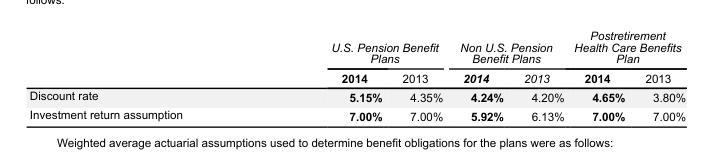table: (28, 28, 685, 122)
table column: (28, 28, 256, 122), (256, 28, 391, 122), (568, 28, 634, 122), (450, 28, 512, 122), (391, 28, 450, 122), (512, 28, 568, 122), (634, 28, 685, 122)
table column header: (28, 28, 685, 86)
table row: (28, 28, 685, 67), (28, 67, 685, 86), (28, 86, 685, 105), (28, 105, 685, 122)
table spanning cell: (256, 28, 450, 67), (450, 28, 568, 67), (568, 28, 685, 67)
